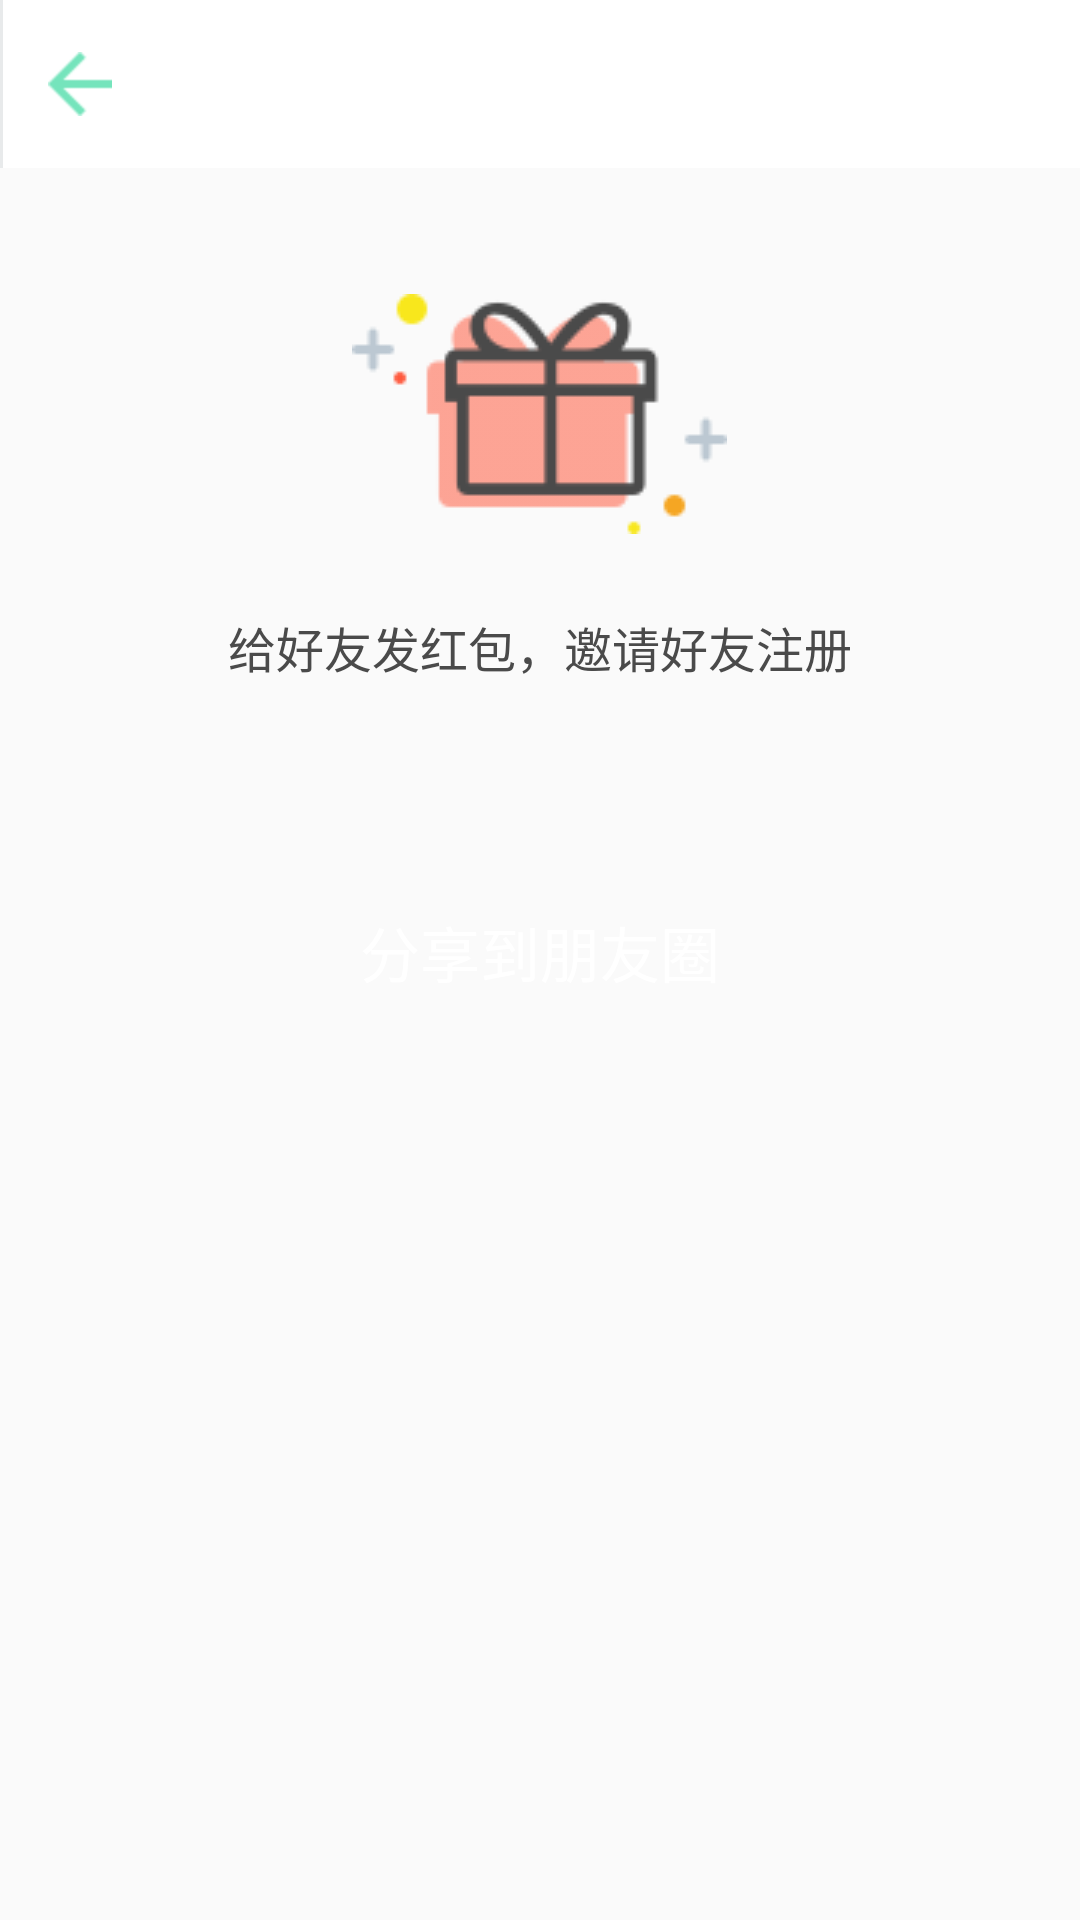

Screen size 1080*1920. Icon name, then its center in pixels as point (x, y):
back: point (80, 84)
